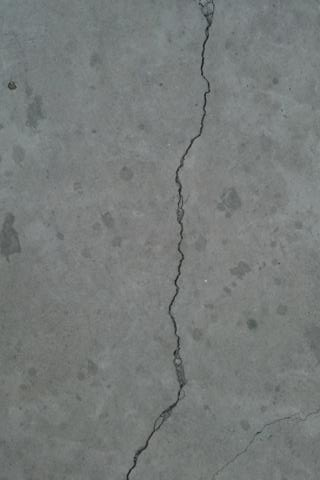A: (123, 1, 223, 480), (210, 399, 320, 479)
